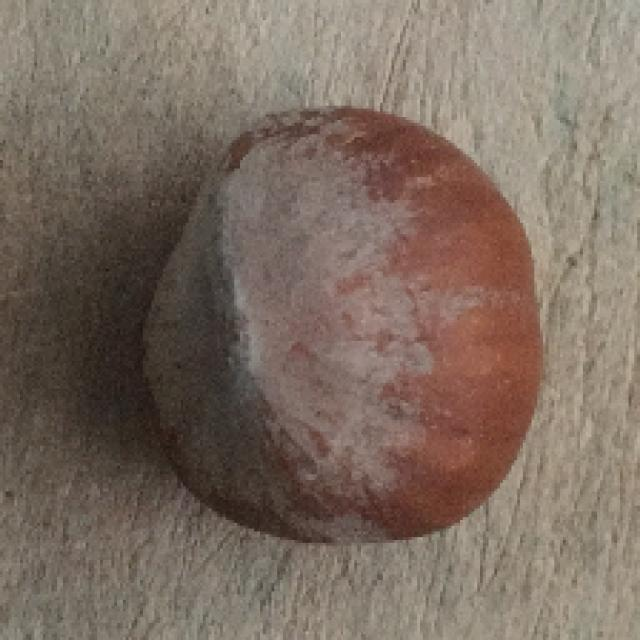QualityHazelnut: (135, 102, 540, 549)
